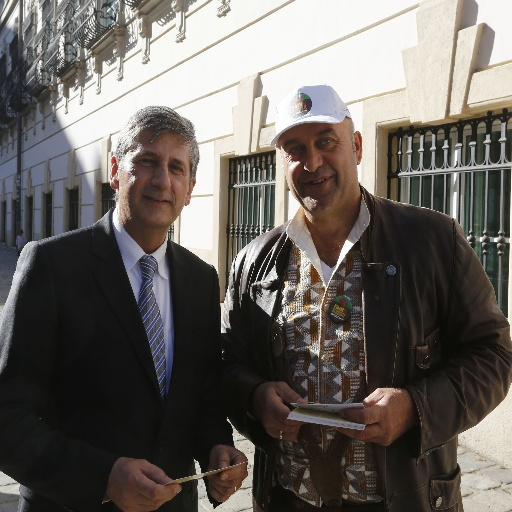hand: (90, 445, 188, 512), (333, 384, 414, 450), (251, 381, 309, 442), (204, 445, 250, 505)
